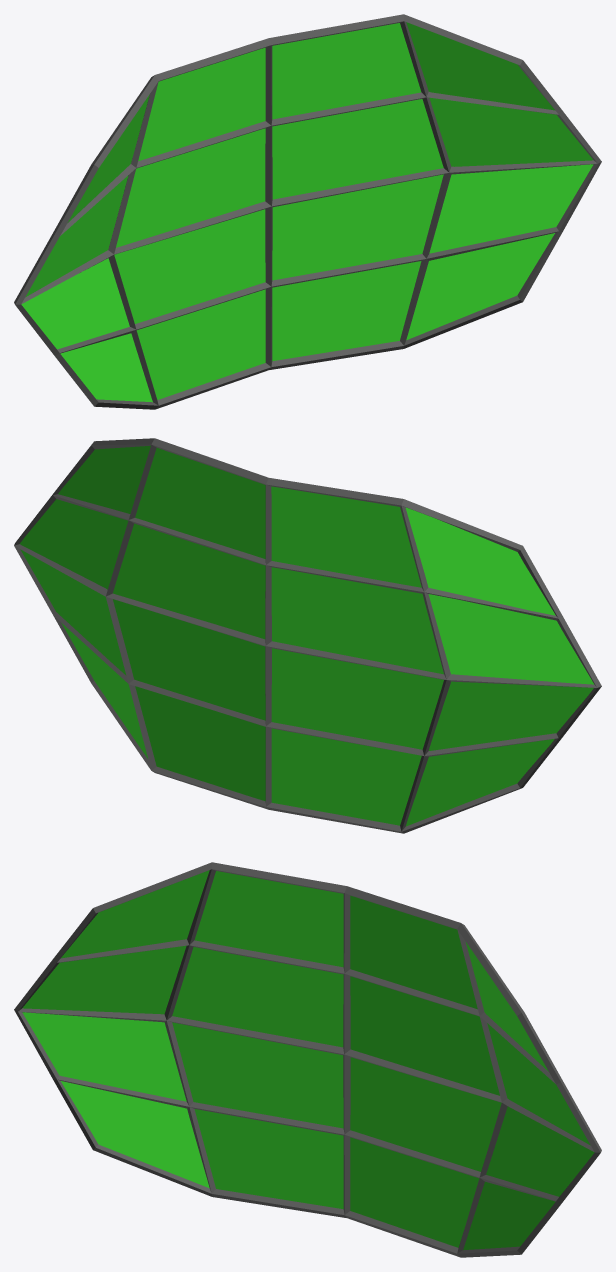
File: Shield.fbx
3 renders of one model, top to bottom at view 1: azimuth 30°, elevation 25°; view 2: azimuth 150°, elevation 25°; view 3: azimuth 330°, elevation 25°, orthographic.
Visible parts, largest first — view 1: Plane; view 2: Plane; view 3: Plane.
Part boxes in pixels (x1=…): Plane: x1=14, y1=14, x2=601, y2=409; Plane: x1=14, y1=438, x2=601, y2=833; Plane: x1=14, y1=862, x2=601, y2=1257.
Size of the model in its own units: 2146 by 1170 by 278.
